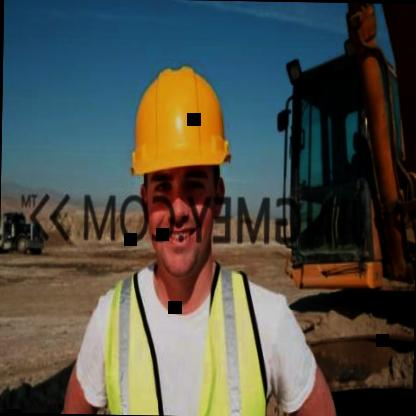helmet: (120, 44, 238, 298)
